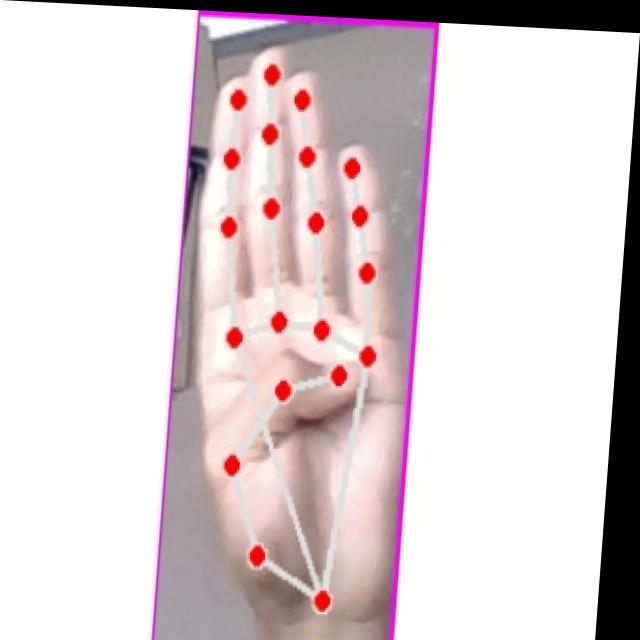B: (176, 44, 423, 625)
